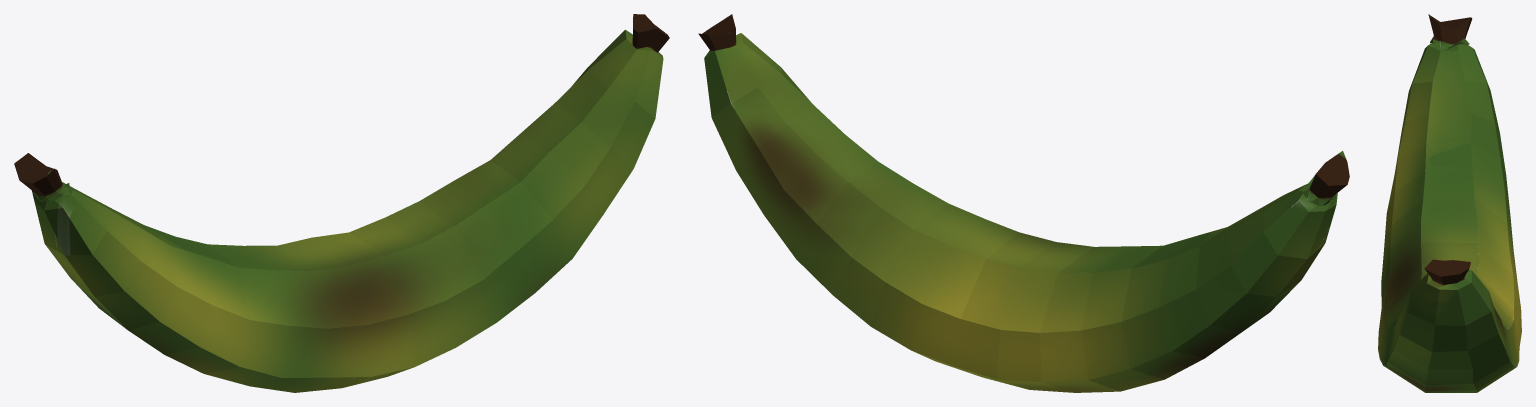
Rendered from platano.fbx.
3 views of the same model, side by side, from view 1: azimuth 30°, elevation 25°; view 2: azimuth 150°, elevation 25°; view 3: azimuth 270°, elevation 25° (orthographic). The views are drawn at different scales.
Visible parts, largest first — view 1: Platano_LowPoly; view 2: Platano_LowPoly; view 3: Platano_LowPoly.
Part boxes in pixels (x1,y1,x2,y2): Platano_LowPoly: [14, 14, 669, 392]; Platano_LowPoly: [698, 14, 1349, 392]; Platano_LowPoly: [1378, 14, 1521, 392].
Bounding box in the file's own units: 727 × 311 × 176.
Materials: 1 (1 with a texture image).
